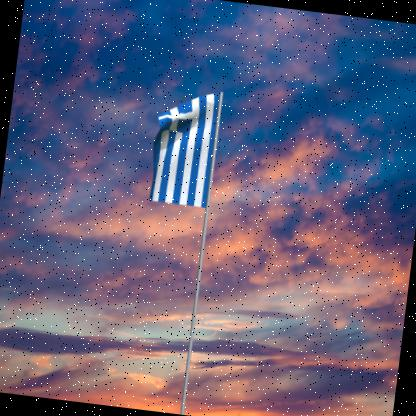gr: (148, 87, 221, 209)
